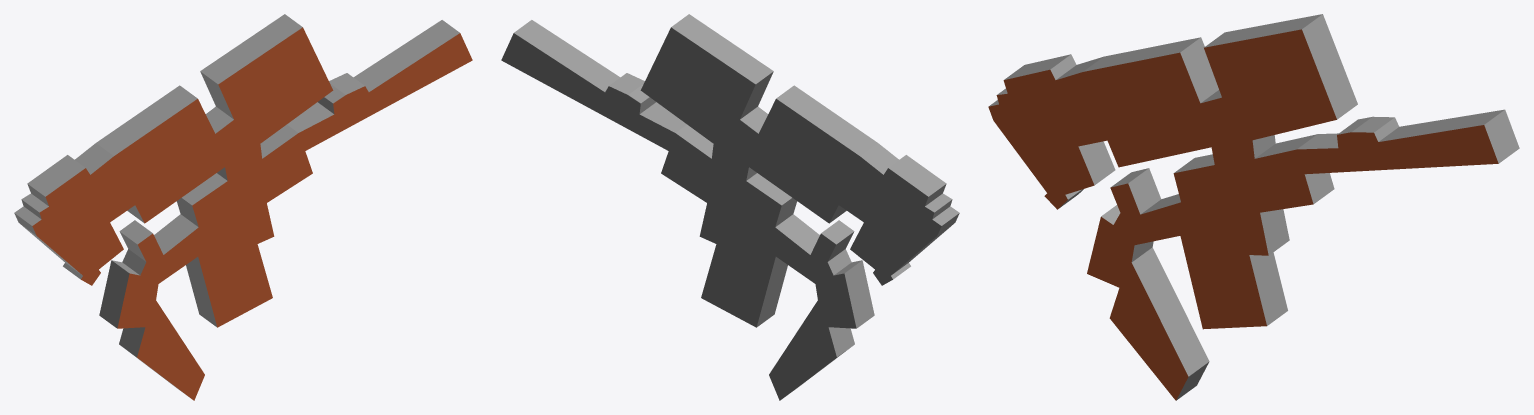
Rendered from construction_3048_assumed_A_Casa_h6m.obj.
3 renders of one model, left to right at view 1: azimuth 30°, elevation 25°; view 2: azimuth 150°, elevation 25°; view 3: azimuth 330°, elevation 25°, orthographic. The views are drawn at different scales.
Parts seen in each view (by area): view 1: construction_3048_assumed_A_Casa; view 2: construction_3048_assumed_A_Casa; view 3: construction_3048_assumed_A_Casa.
Part boxes in pixels (x1=…): construction_3048_assumed_A_Casa: x1=14, y1=14, x2=472, y2=400; construction_3048_assumed_A_Casa: x1=501, y1=14, x2=959, y2=400; construction_3048_assumed_A_Casa: x1=988, y1=14, x2=1519, y2=400.
Size of the model in its own units: 84.18 by 63.4 by 6.
